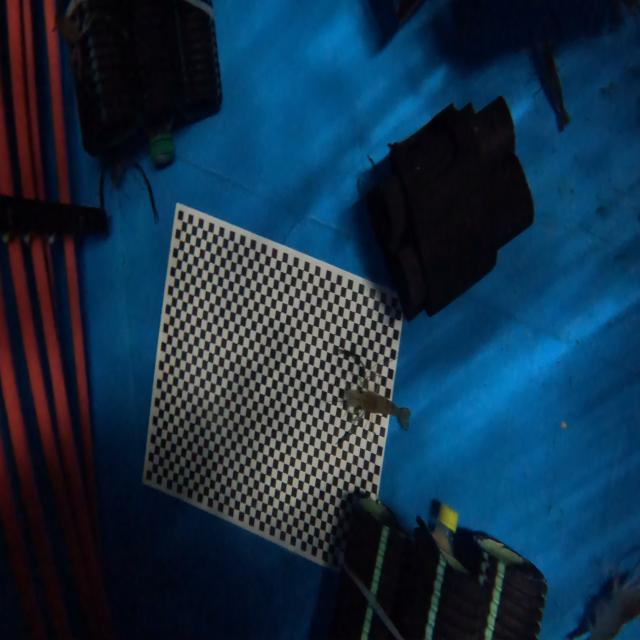prawn: (347, 391, 410, 424)
